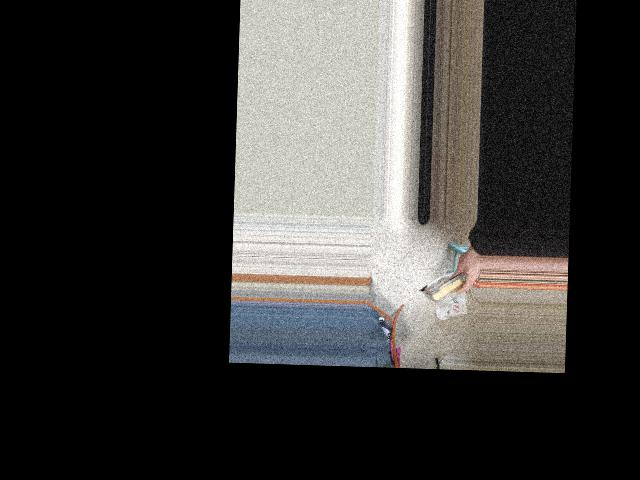cheese: (418, 266, 477, 305)
